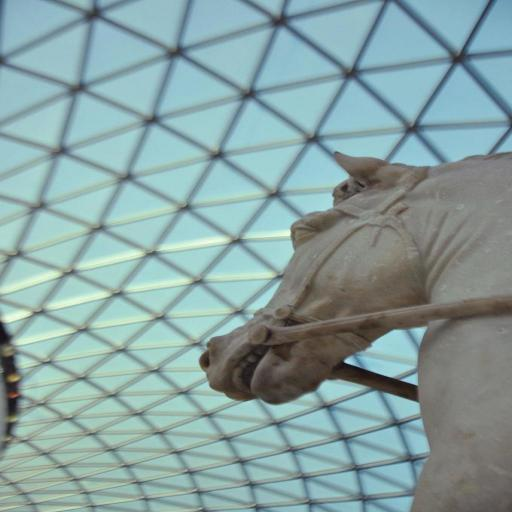Horse: (197, 148, 512, 512)
